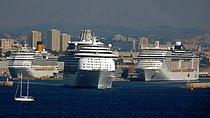Ship: (58, 29, 123, 94), (135, 39, 206, 87), (7, 42, 63, 85)
